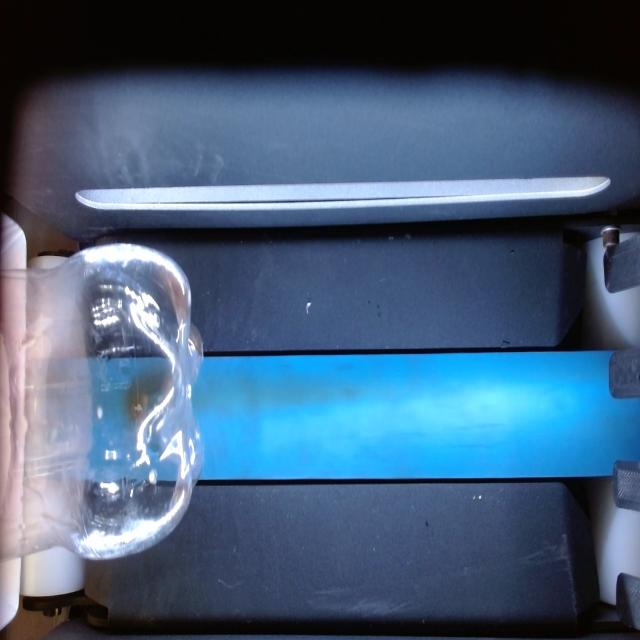bottle: (0, 245, 202, 560)
